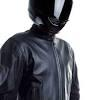helmet: (24, 0, 71, 33)
